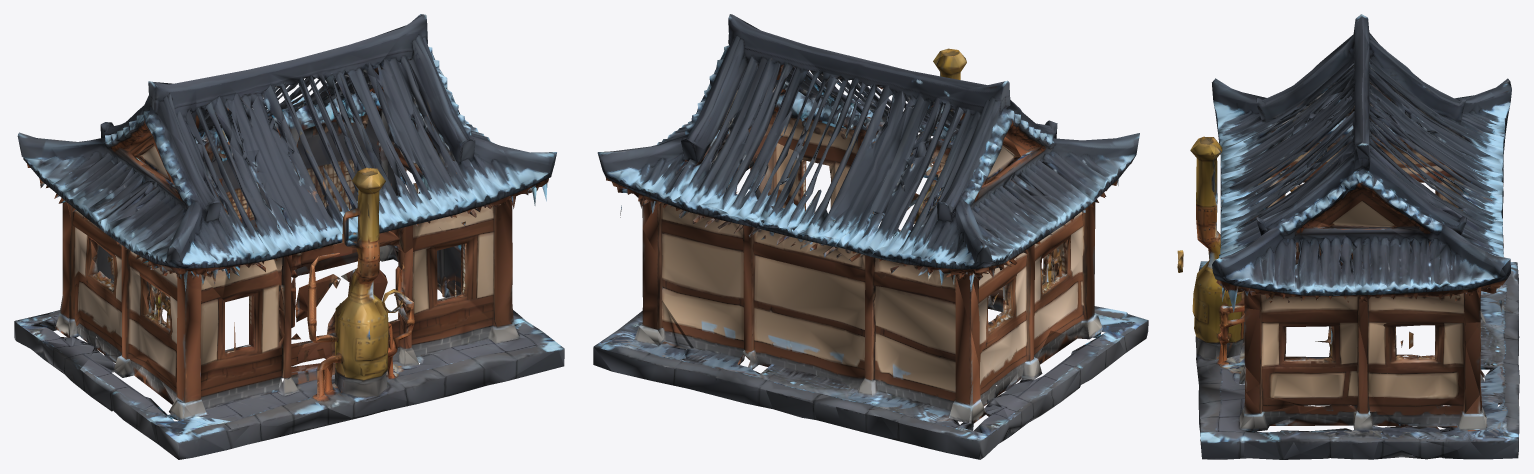
The model's file is NMJ_Gwana.fbx.
The picture shows the model from 3 angles, left to right: view 1: azimuth 30°, elevation 25°; view 2: azimuth 150°, elevation 25°; view 3: azimuth 270°, elevation 25°; orthographic projection. The views are drawn at different scales.
Visible parts, largest first — view 1: NMJ_Gwana; view 2: NMJ_Gwana; view 3: NMJ_Gwana.
Part boxes in pixels (x1,y1,x2,y2): NMJ_Gwana: [14, 14, 564, 459]; NMJ_Gwana: [593, 14, 1148, 459]; NMJ_Gwana: [1177, 14, 1519, 459].
Size of the model in its own units: 12.8 by 9.6 by 10.19.
